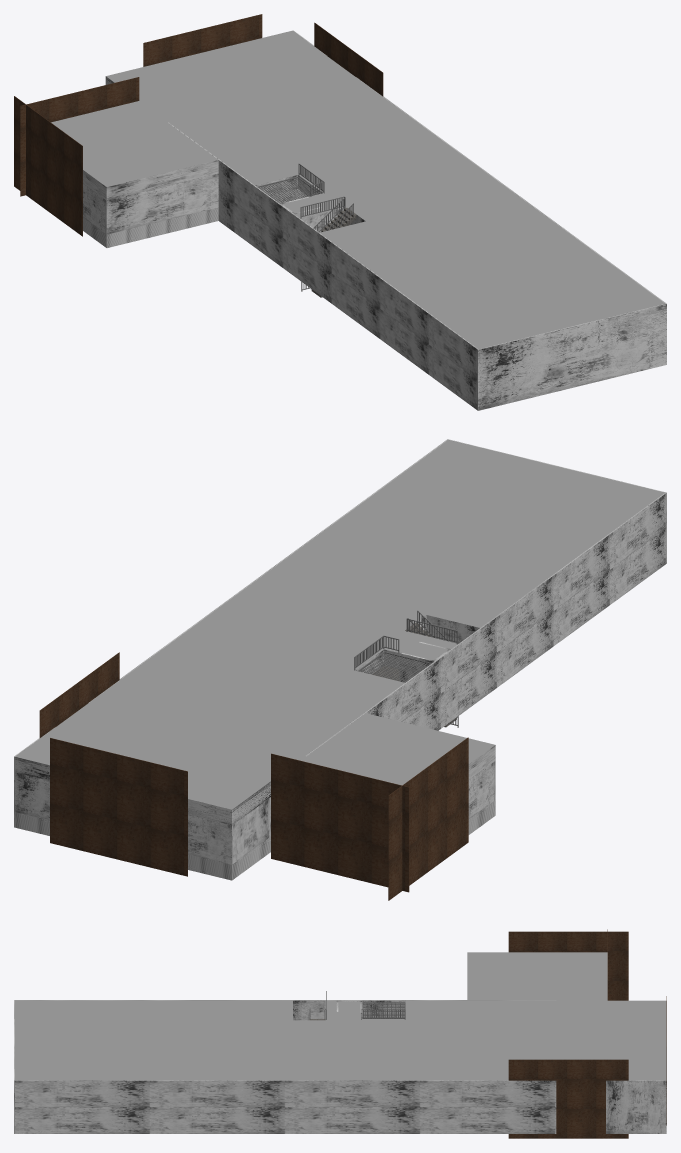
The model's file is lantai 7.FBX.
The picture shows the model from 3 angles, top to bottom: view 1: azimuth 30°, elevation 25°; view 2: azimuth 150°, elevation 25°; view 3: azimuth 270°, elevation 25°; orthographic projection. The views are drawn at different scales.
Parts seen in each view (by area): view 1: Box2304, Box019, Box1909, Box2305, Box2842, Box2699, Box2841, Box2843, Box2108, Box2844, Box2726; view 2: Box2304, Box019, Box2843, Box2841, Box2842, Box2305, Box2844, Box2107, Box2165, Box2164, Box2115, Box2726; view 3: Box2304, Box105, Box2305, Box2844, Box2842, Box299, Box019.
Boxes of the visible parts, x1,y1,x2,y2 form: Box2304: (105, 30, 664, 348); Box019: (168, 122, 478, 409); Box1909: (477, 303, 666, 410); Box2305: (51, 101, 218, 200); Box2842: (14, 96, 82, 236); Box2699: (105, 173, 218, 234); Box2841: (20, 77, 139, 196); Box2843: (143, 14, 262, 66); Box2108: (83, 207, 218, 247); Box2844: (314, 22, 383, 96); Box2726: (83, 183, 105, 233); Box2304: (15, 440, 664, 825); Box019: (306, 493, 666, 756); Box2843: (50, 738, 187, 876); Box2841: (271, 753, 409, 892); Box2842: (388, 737, 468, 900); Box2305: (299, 713, 495, 785); Box2844: (39, 652, 119, 737); Box2107: (15, 666, 399, 880); Box2165: (188, 815, 232, 864); Box2164: (233, 798, 269, 863); Box2115: (15, 772, 49, 820); Box2726: (468, 762, 494, 819); Box2304: (15, 1000, 666, 1080); Box105: (15, 1080, 556, 1133); Box2305: (467, 952, 607, 1000); Box2844: (508, 1059, 628, 1138); Box2842: (508, 931, 628, 1000); Box299: (606, 1080, 666, 1133); Box019: (15, 1000, 556, 1020).
Size of the model in its own units: 1117 by 343 by 2359.
